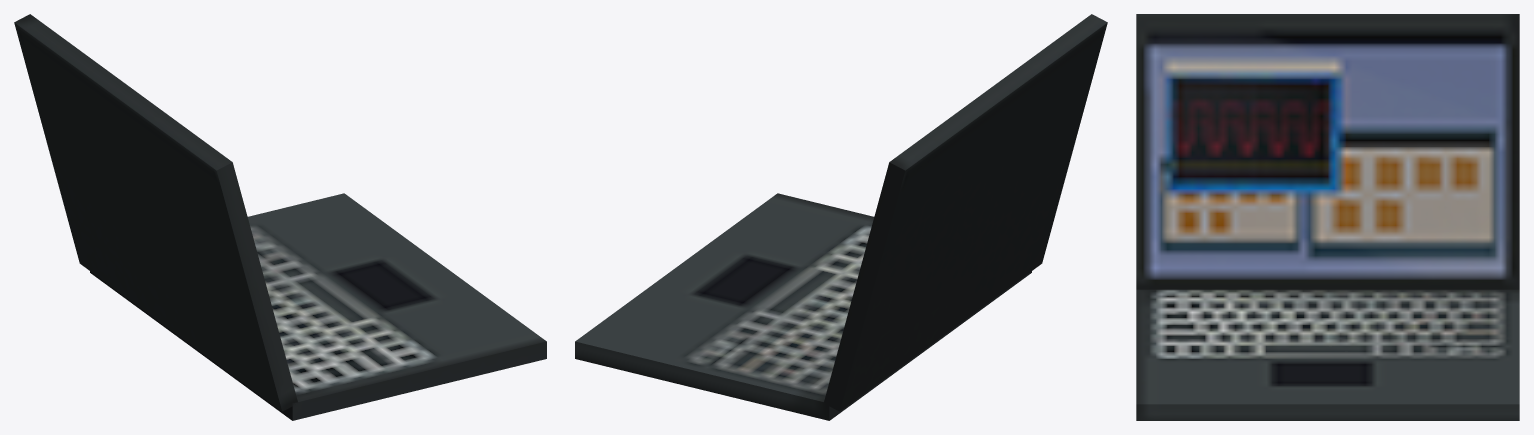
The model's file is Tx_prop_laptop_6.fbx.
The picture shows the model from 3 angles, left to right: view 1: azimuth 30°, elevation 25°; view 2: azimuth 150°, elevation 25°; view 3: azimuth 270°, elevation 25°; orthographic projection. The views are drawn at different scales.
Visible parts, largest first — view 1: Tx_prop_laptop_9; view 2: Tx_prop_laptop_9; view 3: Tx_prop_laptop_9.
Boxes of the visible parts, bbox=[...] form: Tx_prop_laptop_9: bbox=[14, 14, 546, 420]; Tx_prop_laptop_9: bbox=[575, 14, 1107, 420]; Tx_prop_laptop_9: bbox=[1136, 14, 1519, 420].
Size of the model in its own units: 2.31 by 1.83 by 2.46.
1 material, 1 textured.
